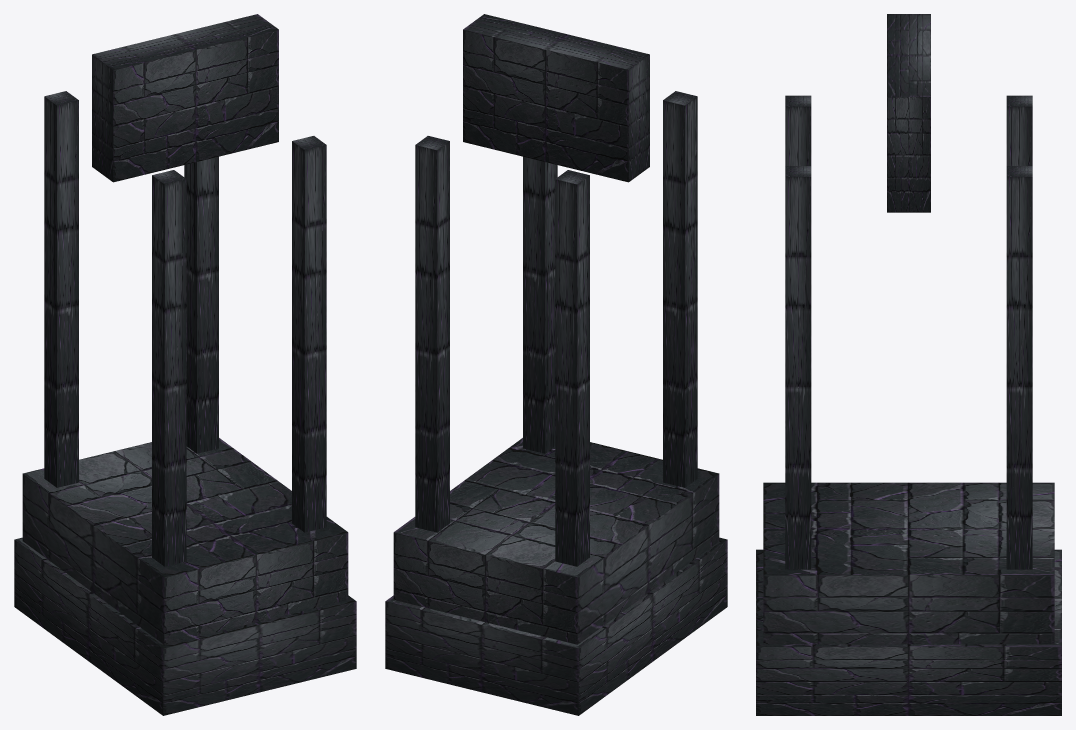
The model's file is sanctuary_of_morbus.obj.
3 views of the same model, side by side, from view 1: azimuth 30°, elevation 25°; view 2: azimuth 150°, elevation 25°; view 3: azimuth 270°, elevation 25° (orthographic). The views are drawn at different scales.
Visible parts, largest first — view 1: building; view 2: building; view 3: building.
Part boxes in pixels (box(x1,y1,x2,y2)): building: box(14, 14, 356, 715); building: box(385, 14, 727, 715); building: box(756, 14, 1061, 715).
Bounding box in the file's own units: 3.15 × 9.27 × 4.2.
